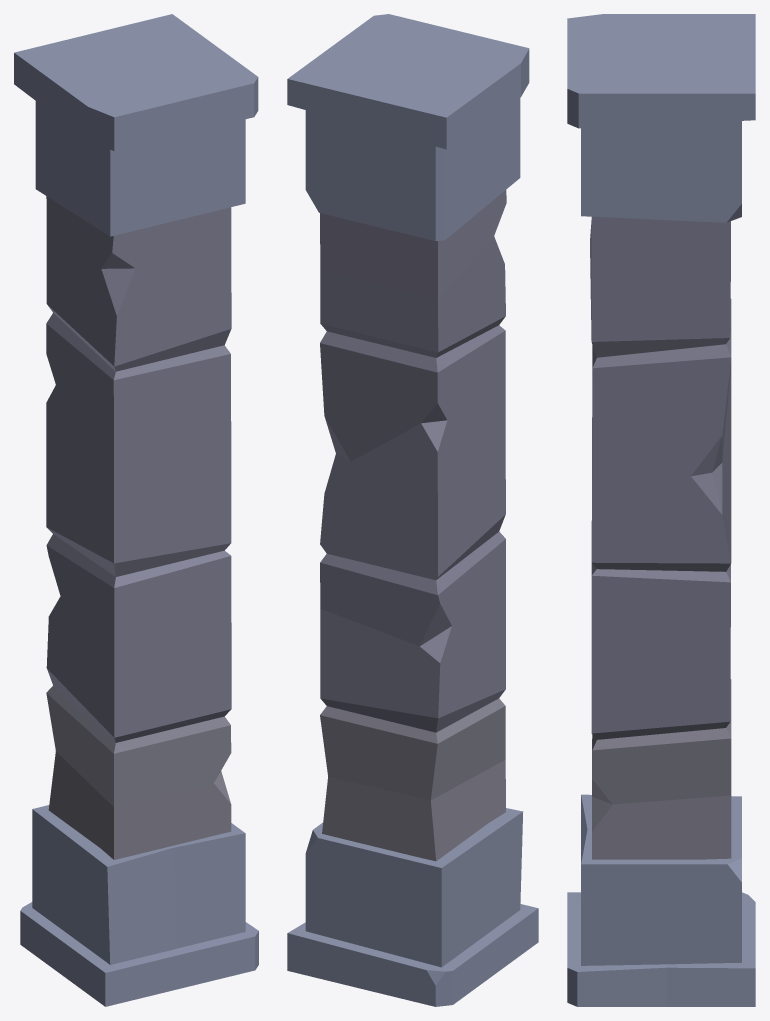
Rendered from pillar_small.fbx.
3 renders of one model, left to right at view 1: azimuth 30°, elevation 25°; view 2: azimuth 150°, elevation 25°; view 3: azimuth 270°, elevation 25°, orthographic. The views are drawn at different scales.
Visible parts, largest first — view 1: pillar_small; view 2: pillar_small; view 3: pillar_small.
Part boxes in pixels (box(x1,y1,x2,y2)): pillar_small: box(14, 14, 258, 1006); pillar_small: box(287, 14, 538, 1006); pillar_small: box(567, 14, 755, 1006).
Size of the model in its own units: 84.66 by 453 by 84.66.
